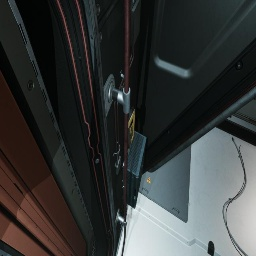EmergencyPhone ,: (123, 105, 135, 157)
